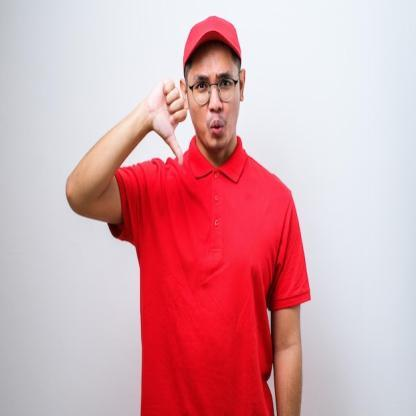thumb_down: (142, 74, 190, 167)
